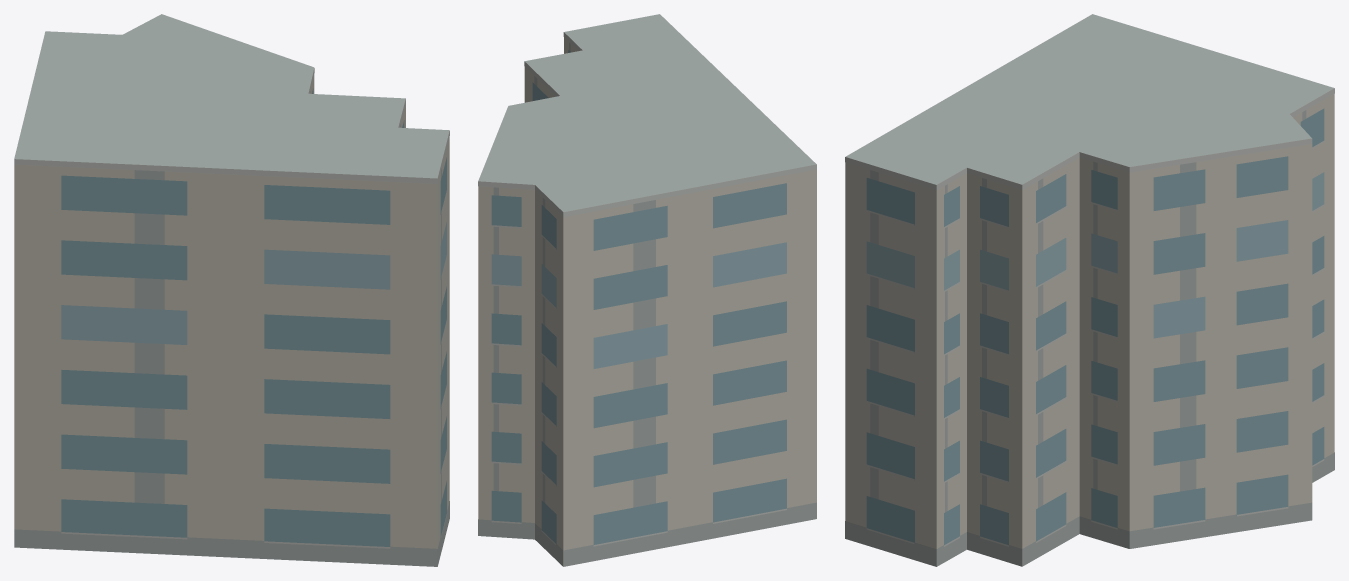
Rendered from survey-upis-32834171.glb.
3 renders of one model, left to right at view 1: azimuth 30°, elevation 25°; view 2: azimuth 150°, elevation 25°; view 3: azimuth 270°, elevation 25°, orthographic. The views are drawn at different scales.
Parts seen in each view (by area): view 1: survey-upis-32834171.tmp; view 2: survey-upis-32834171.tmp; view 3: survey-upis-32834171.tmp.
Boxes of the visible parts, x1,y1,x2,y2 form: survey-upis-32834171.tmp: (14, 14, 449, 566); survey-upis-32834171.tmp: (478, 14, 816, 566); survey-upis-32834171.tmp: (845, 14, 1334, 566).
Bounding box in the file's own units: 16.43 × 17.1 × 19.87.
